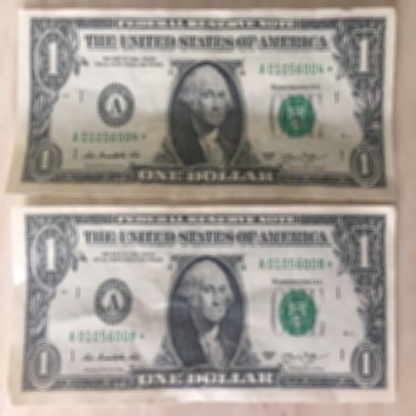one-front: (9, 204, 400, 404), (8, 10, 399, 204)
